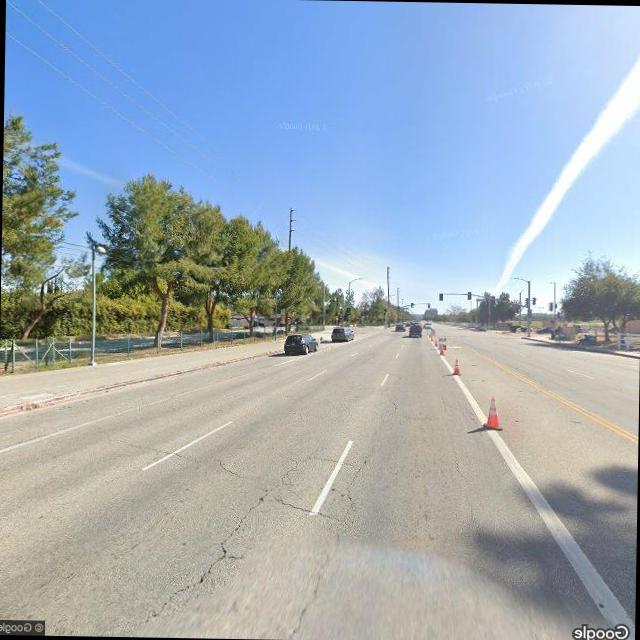crack: (142, 442, 376, 632)
pothole: (140, 442, 374, 630)
